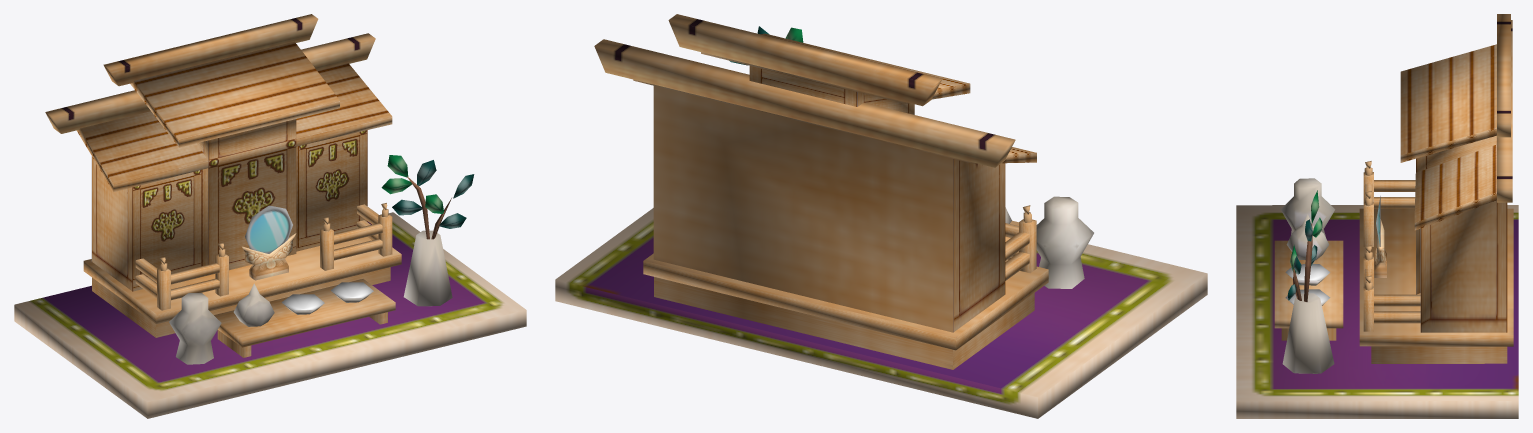
File: shinto_altar.fbx
The picture shows the model from 3 angles, left to right: view 1: azimuth 30°, elevation 25°; view 2: azimuth 150°, elevation 25°; view 3: azimuth 270°, elevation 25°; orthographic projection. The views are drawn at different scales.
Parts seen in each view (by area): view 1: shinto_altar; view 2: shinto_altar; view 3: shinto_altar.
Boxes of the visible parts, x1,y1,x2,y2 form: shinto_altar: [14, 14, 526, 418]; shinto_altar: [555, 14, 1207, 418]; shinto_altar: [1236, 14, 1518, 418].
Bounding box in the file's own units: 105 × 63.25 × 64.02.
